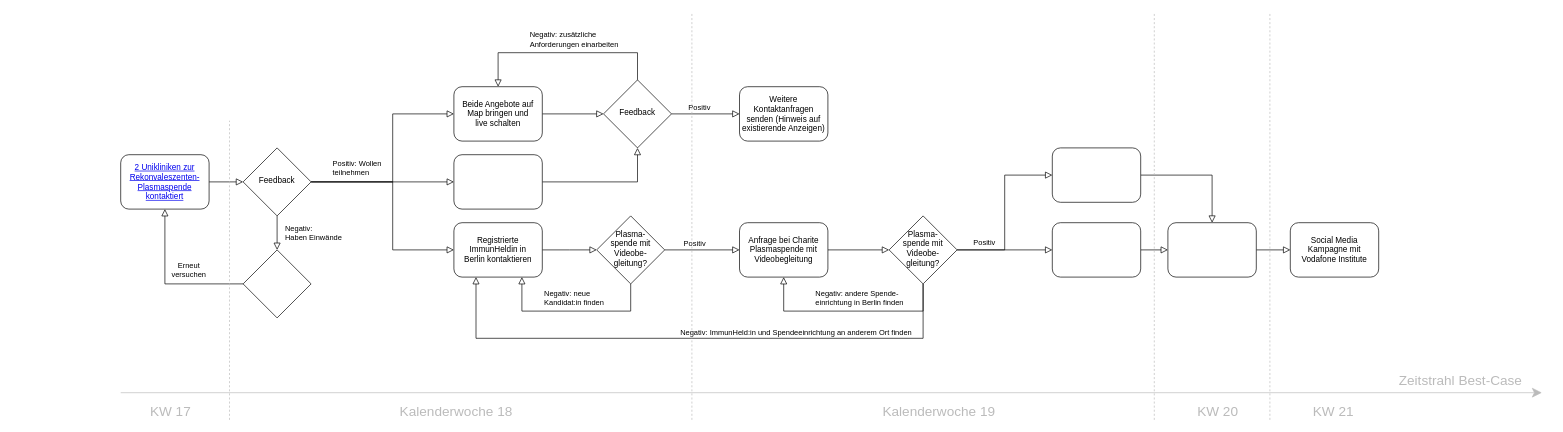
This 1563x432 diagram has some shape labels left out. The shapes that lost their labels are listed below. From the top down, each one's centre as x and y in pixels, then its label:
At point (497, 181): "Kontaktanfrage für Einrichtungen in ganz Deutschland vorbereiten".
At point (1096, 174): "Anforderungen für Promovideo bei Vodafone Institute abfragen".
At point (1096, 249): "Datum/Zeit vereinbaren, Team für Videodreh zusammenstellen".
At point (1211, 249): "Erfahrungsbericht drehen und schneiden".
At point (276, 283): "Probleme reviewen".
